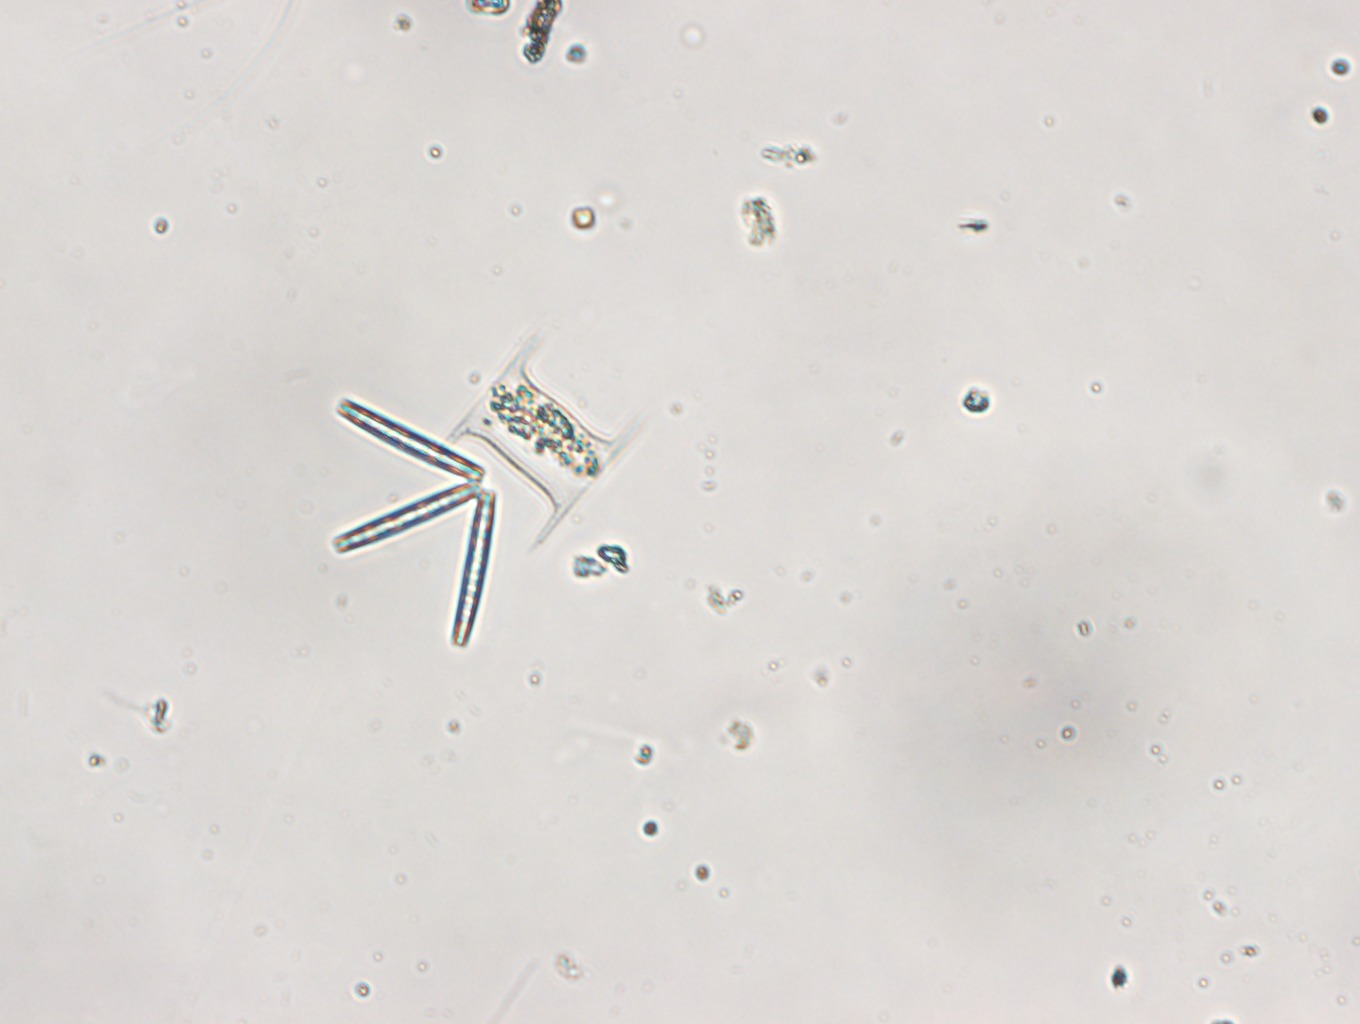eucampia: (442, 325, 662, 551)
thalassionema nitzschioides: (329, 395, 496, 646)
